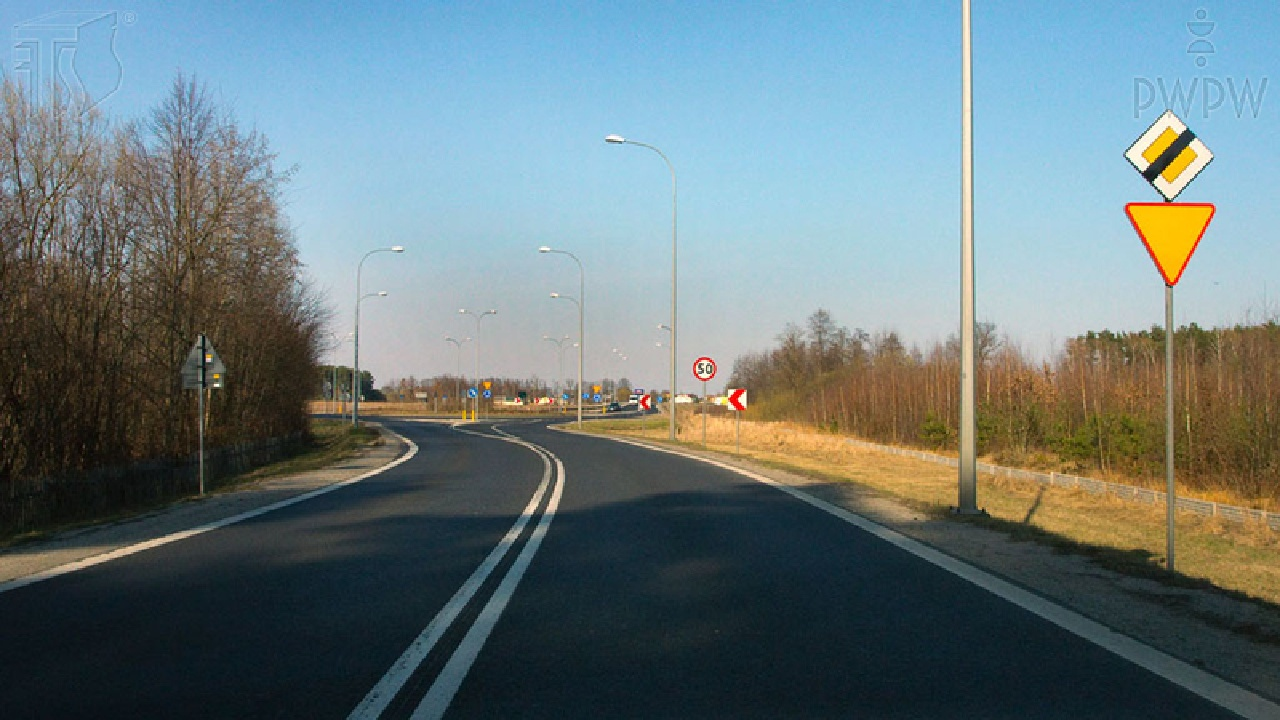A7: (1123, 201, 1218, 286)
B33_50: (693, 357, 717, 381)
D2: (1124, 110, 1216, 198)
